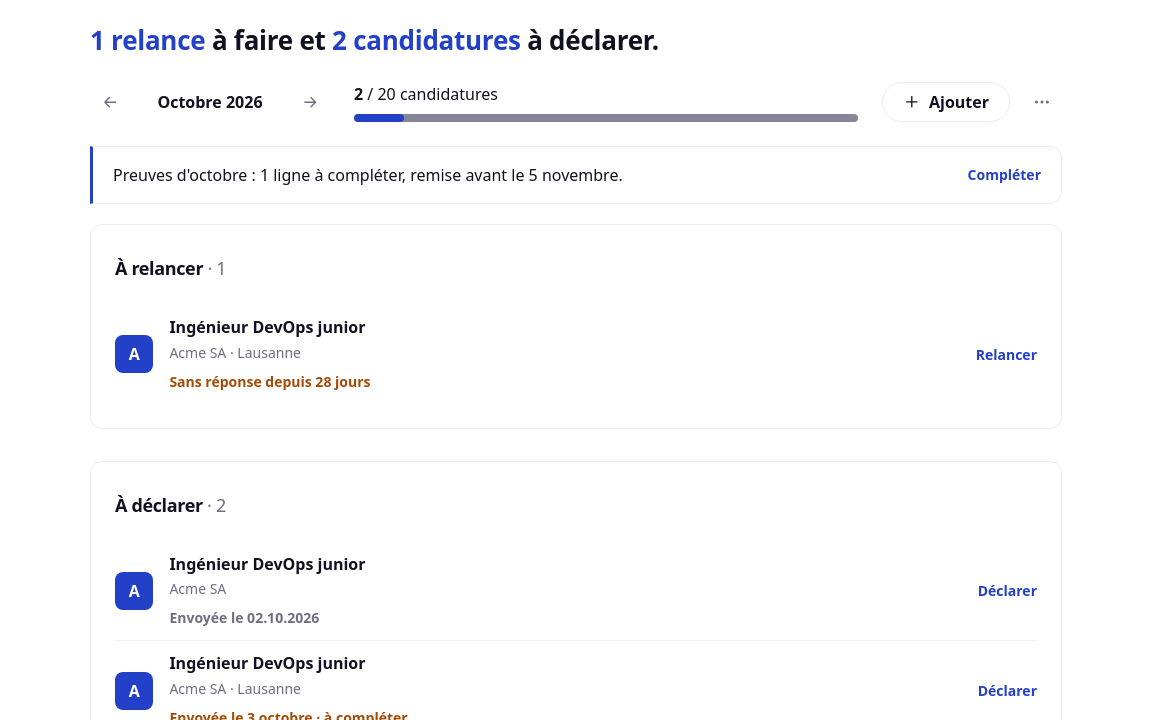
Candidatures, onglet Preuves ORP › une action à la fois : compléter tant qu'une ligne manque
Step 1. Click the button with test id "complete-next" → (1004, 175), box [968,164,1041,185]
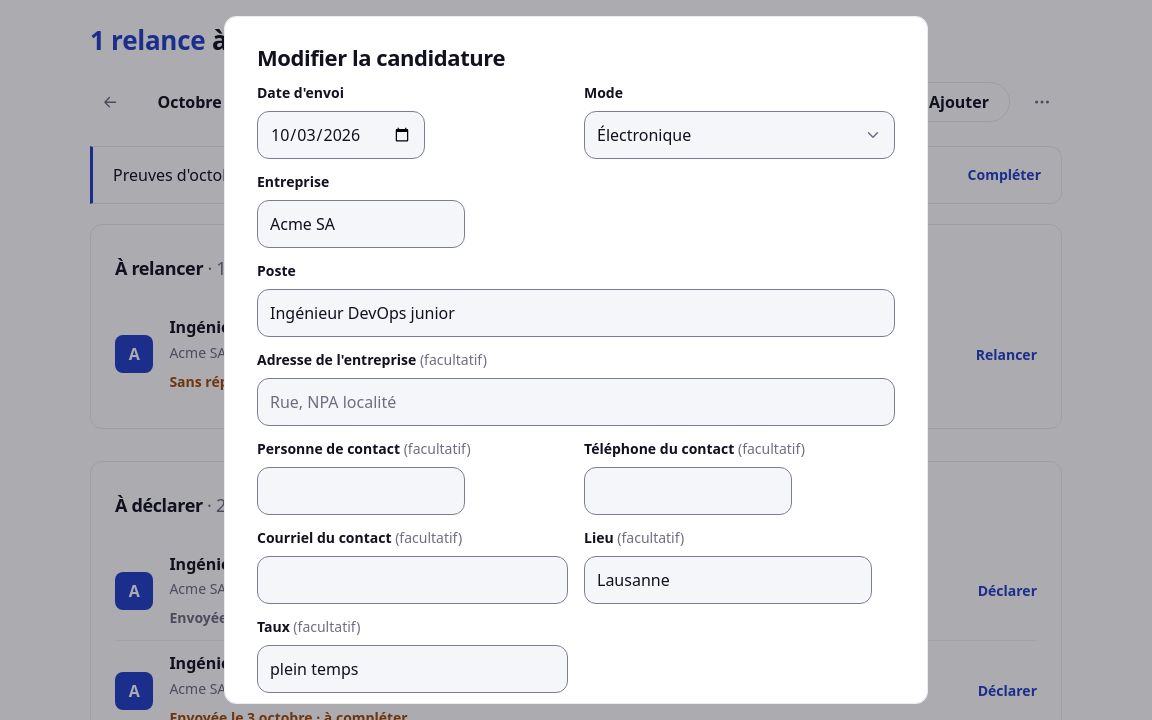
Now the form with class "application-form" is shown, box [224,16,928,704]
